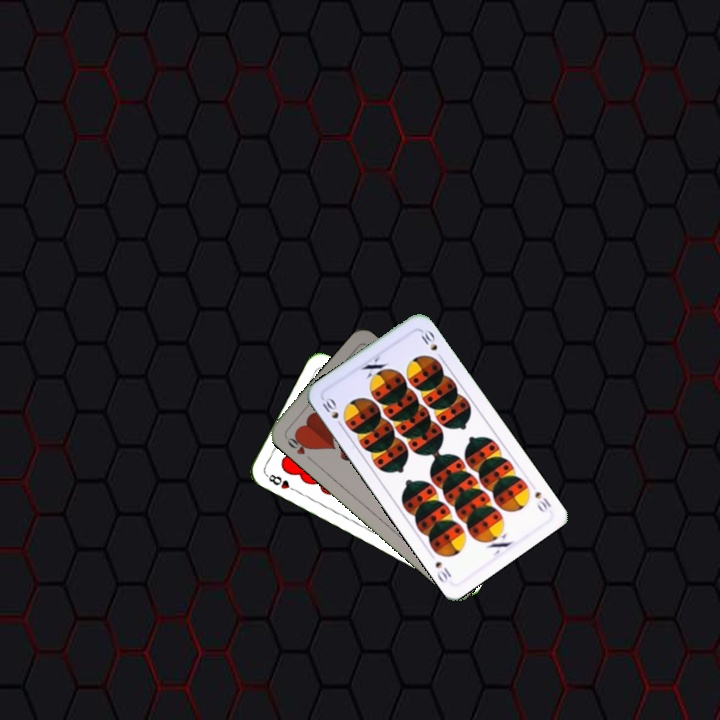H8: (262, 470, 300, 495)
HO: (282, 430, 315, 463)
S10: (318, 393, 346, 431), (530, 487, 554, 515)
